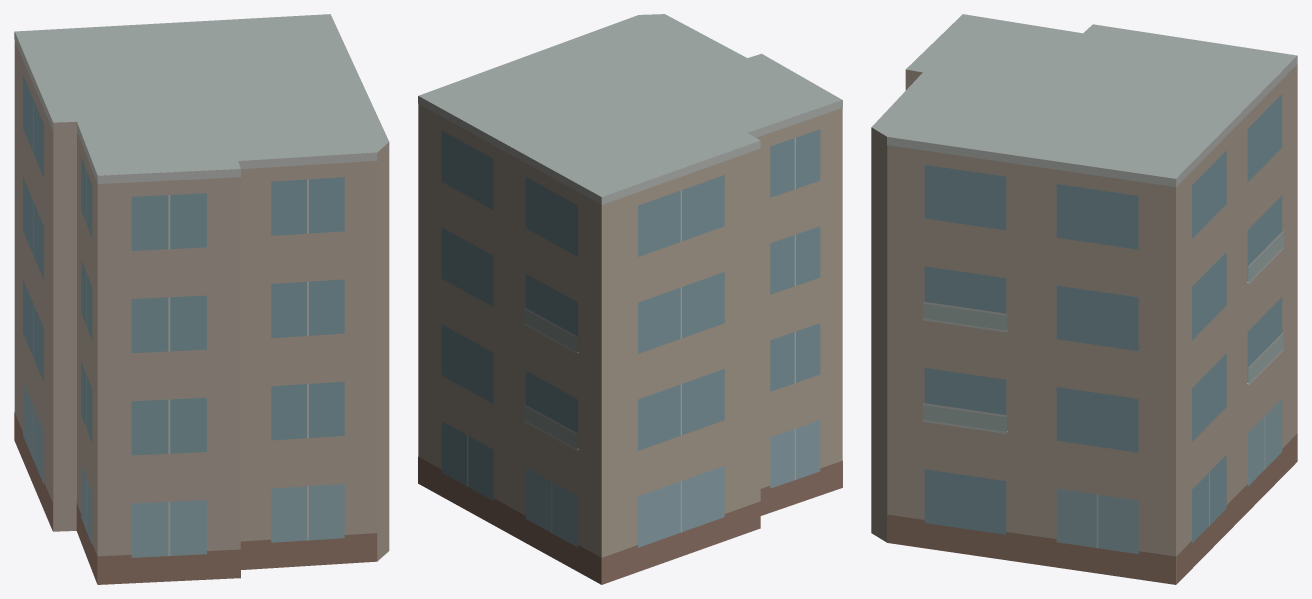
The model's file is survey-upis-32505037.glb.
3 views of the same model, side by side, from view 1: azimuth 30°, elevation 25°; view 2: azimuth 150°, elevation 25°; view 3: azimuth 270°, elevation 25° (orthographic). The views are drawn at different scales.
Visible parts, largest first — view 1: survey-upis-32505037.tmp; view 2: survey-upis-32505037.tmp; view 3: survey-upis-32505037.tmp.
Part boxes in pixels (x1,y1,x2,y2): survey-upis-32505037.tmp: [14, 14, 389, 584]; survey-upis-32505037.tmp: [418, 14, 842, 584]; survey-upis-32505037.tmp: [871, 14, 1297, 584].
Size of the model in its own units: 10.46 by 12 by 11.43.
